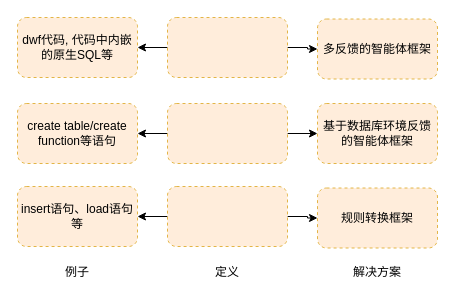
This 455x305 diagram has some shape labels left out. The centre of each missing label's shape, as x and y in pixels:
动态操作层: the point at 227,47
数据定义层: the point at 227,133
数据导入层: the point at 227,216
